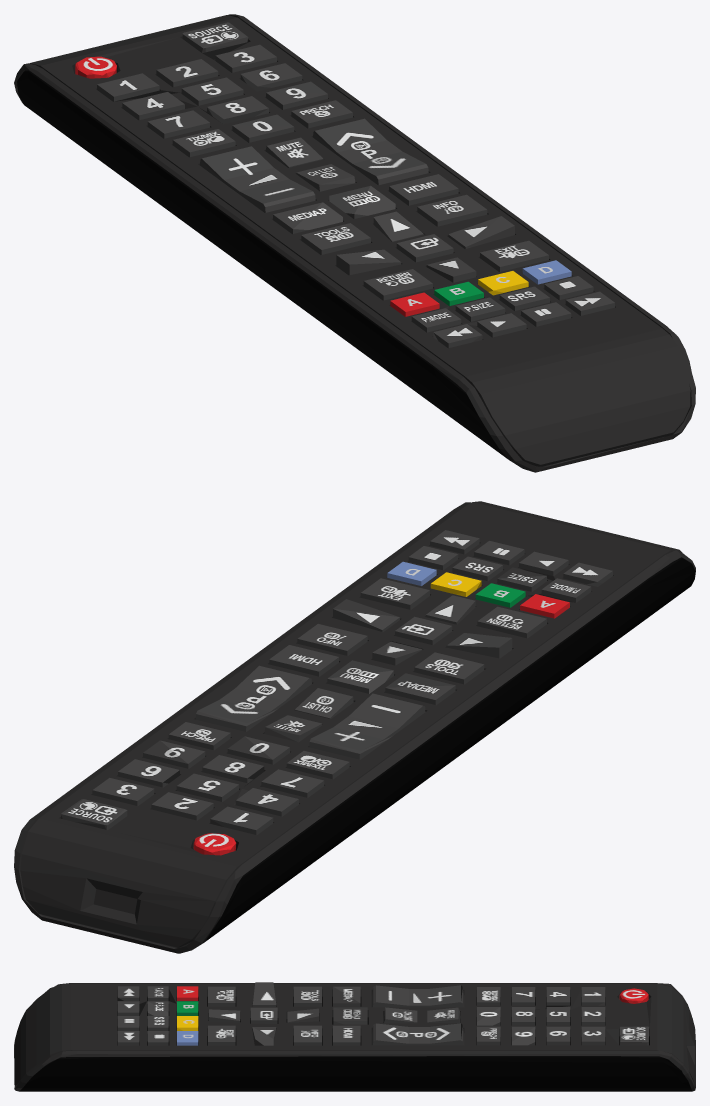
Rendered from TV Remote.FBX.
3 renders of one model, top to bottom at view 1: azimuth 30°, elevation 25°; view 2: azimuth 150°, elevation 25°; view 3: azimuth 270°, elevation 25°, orthographic. The views are drawn at different scales.
Parts seen in each view (by area): view 1: TV Remote; view 2: TV Remote; view 3: TV Remote.
Boxes of the visible parts, <box> form: TV Remote: <box>14,14,695,472</box>; TV Remote: <box>14,501,695,953</box>; TV Remote: <box>14,982,695,1091</box>.
Bounding box in the file's own units: 5.02 × 1.91 × 20.04.
Materials: 1 (1 with a texture image).
